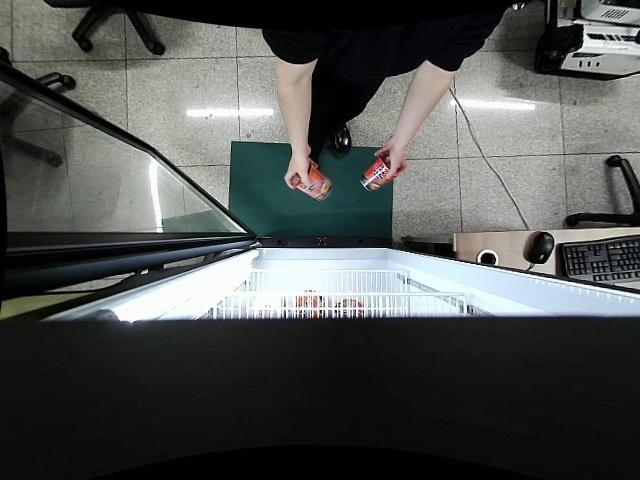00_hand: (375, 139, 407, 181), (285, 148, 312, 191)
02_shinRamen_S: (291, 163, 333, 203), (362, 155, 403, 192)
